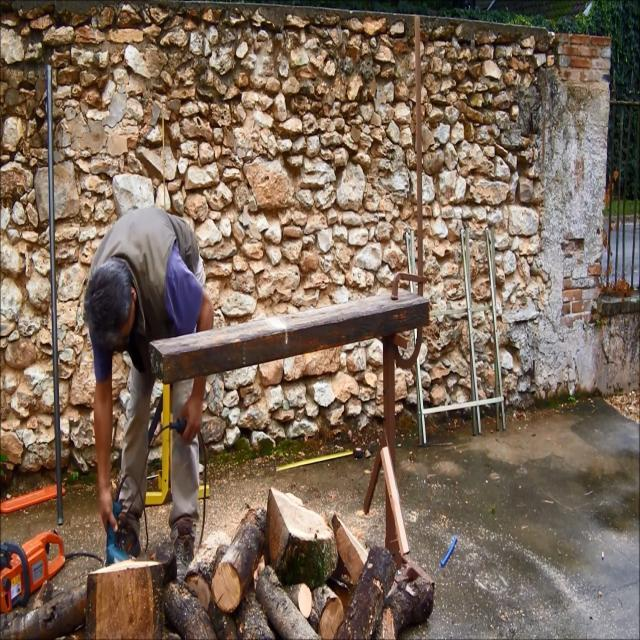Chainsaw: (0, 495, 75, 640)
